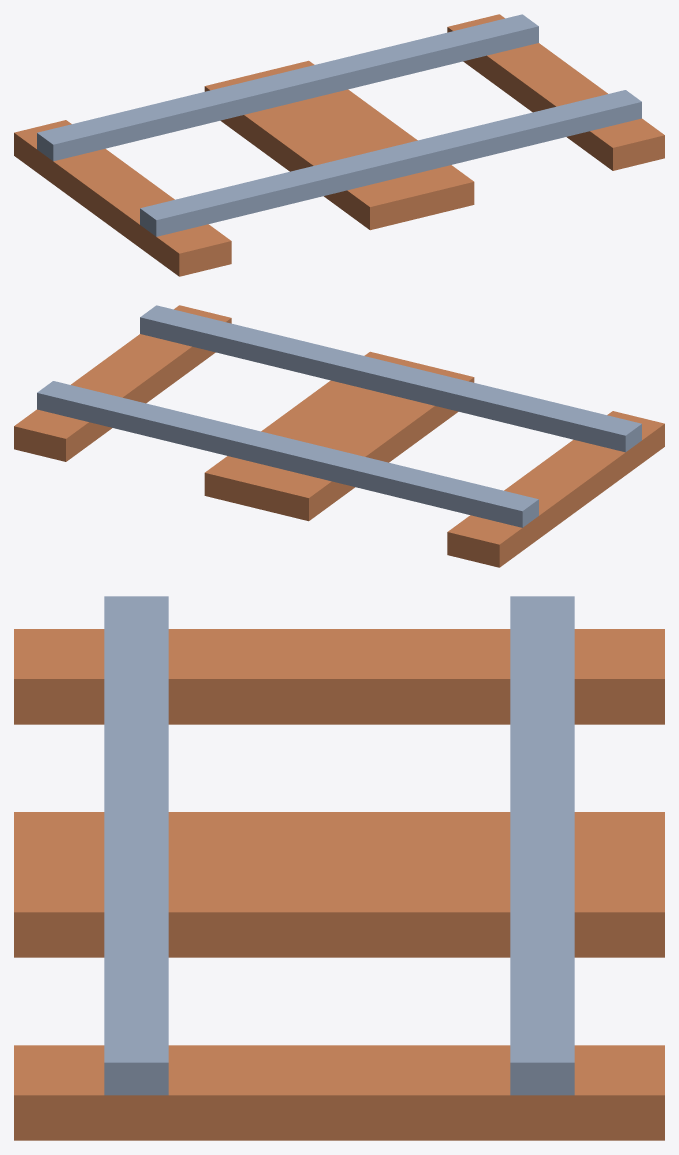
File: trackStraight.fbx
3 views of the same model, one above another, from view 1: azimuth 30°, elevation 25°; view 2: azimuth 150°, elevation 25°; view 3: azimuth 270°, elevation 25° (orthographic). The views are drawn at different scales.
Parts seen in each view (by area): view 1: trackStraight; view 2: trackStraight; view 3: trackStraight.
Part boxes in pixels (left/top/right/bottom): trackStraight: left=14, top=14, right=664, bottom=276; trackStraight: left=14, top=305, right=664, bottom=567; trackStraight: left=14, top=596, right=664, bottom=1140.
Size of the model in its own units: 3.08 by 0.241 by 1.82.
